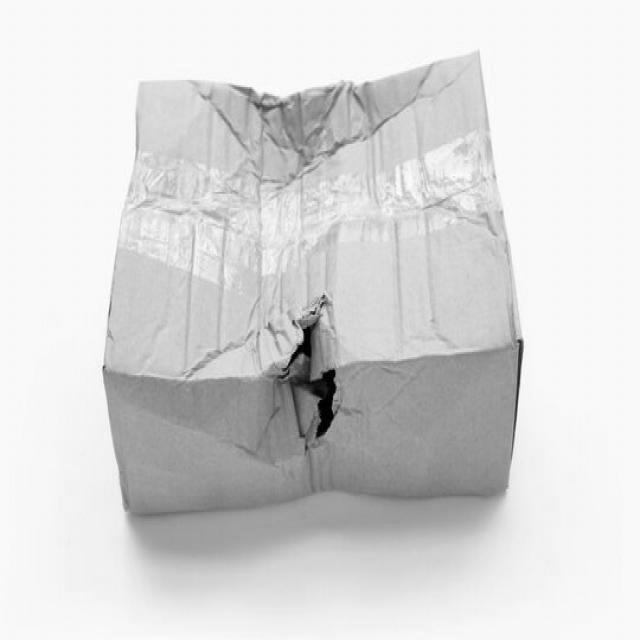hole: (272, 295, 352, 449)
